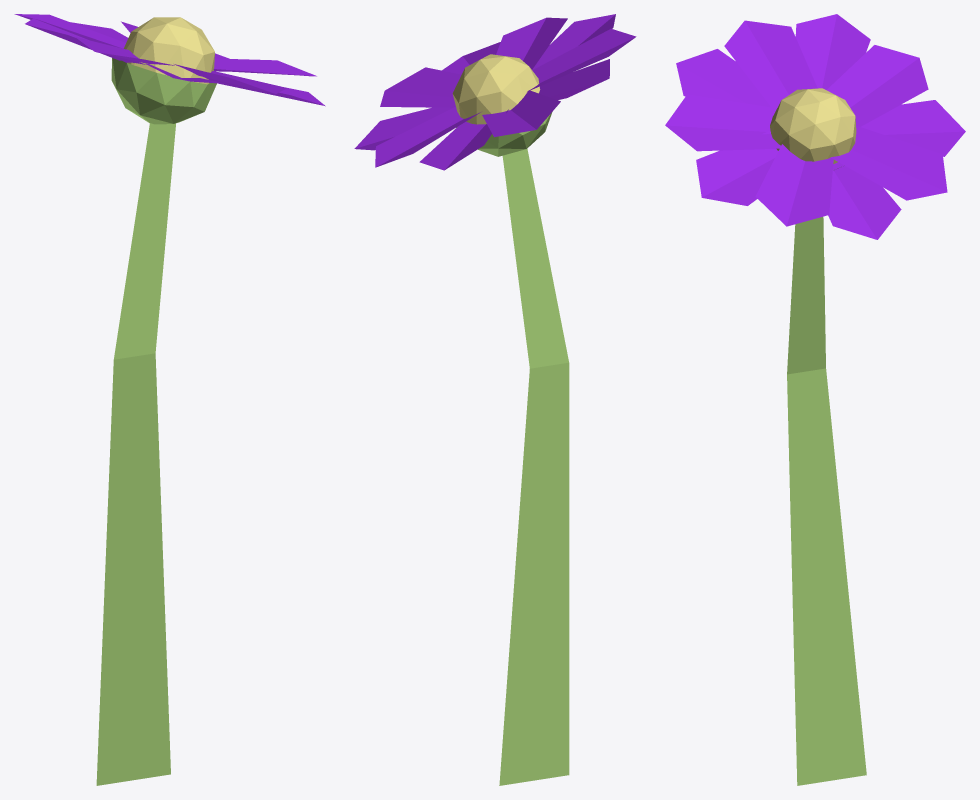
Rendered from flower 3.fbx.
3 renders of one model, left to right at view 1: azimuth 30°, elevation 25°; view 2: azimuth 150°, elevation 25°; view 3: azimuth 270°, elevation 25°, orthographic. The views are drawn at different scales.
Visible parts, largest first — view 1: Cylinder.003; view 2: Cylinder.003; view 3: Cylinder.003.
Boxes of the visible parts, x1,y1,x2,y2 form: Cylinder.003: (14,14,325,785); Cylinder.003: (354,14,636,785); Cylinder.003: (665,14,965,785).
Size of the model in its own units: 6.07 by 16.73 by 6.35.
